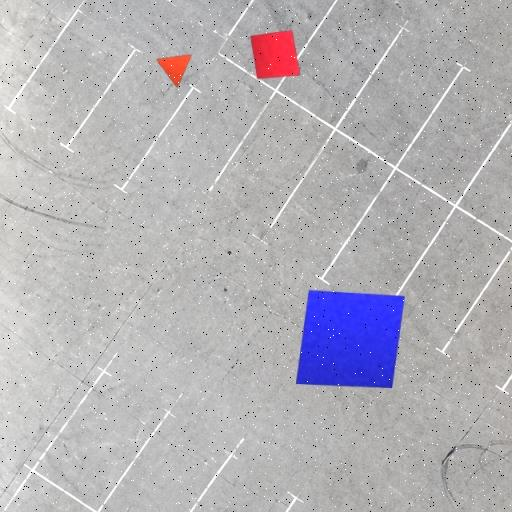BLUE_SQUARE: (295, 290, 405, 388)
RED_SQUARE: (250, 30, 301, 79)
